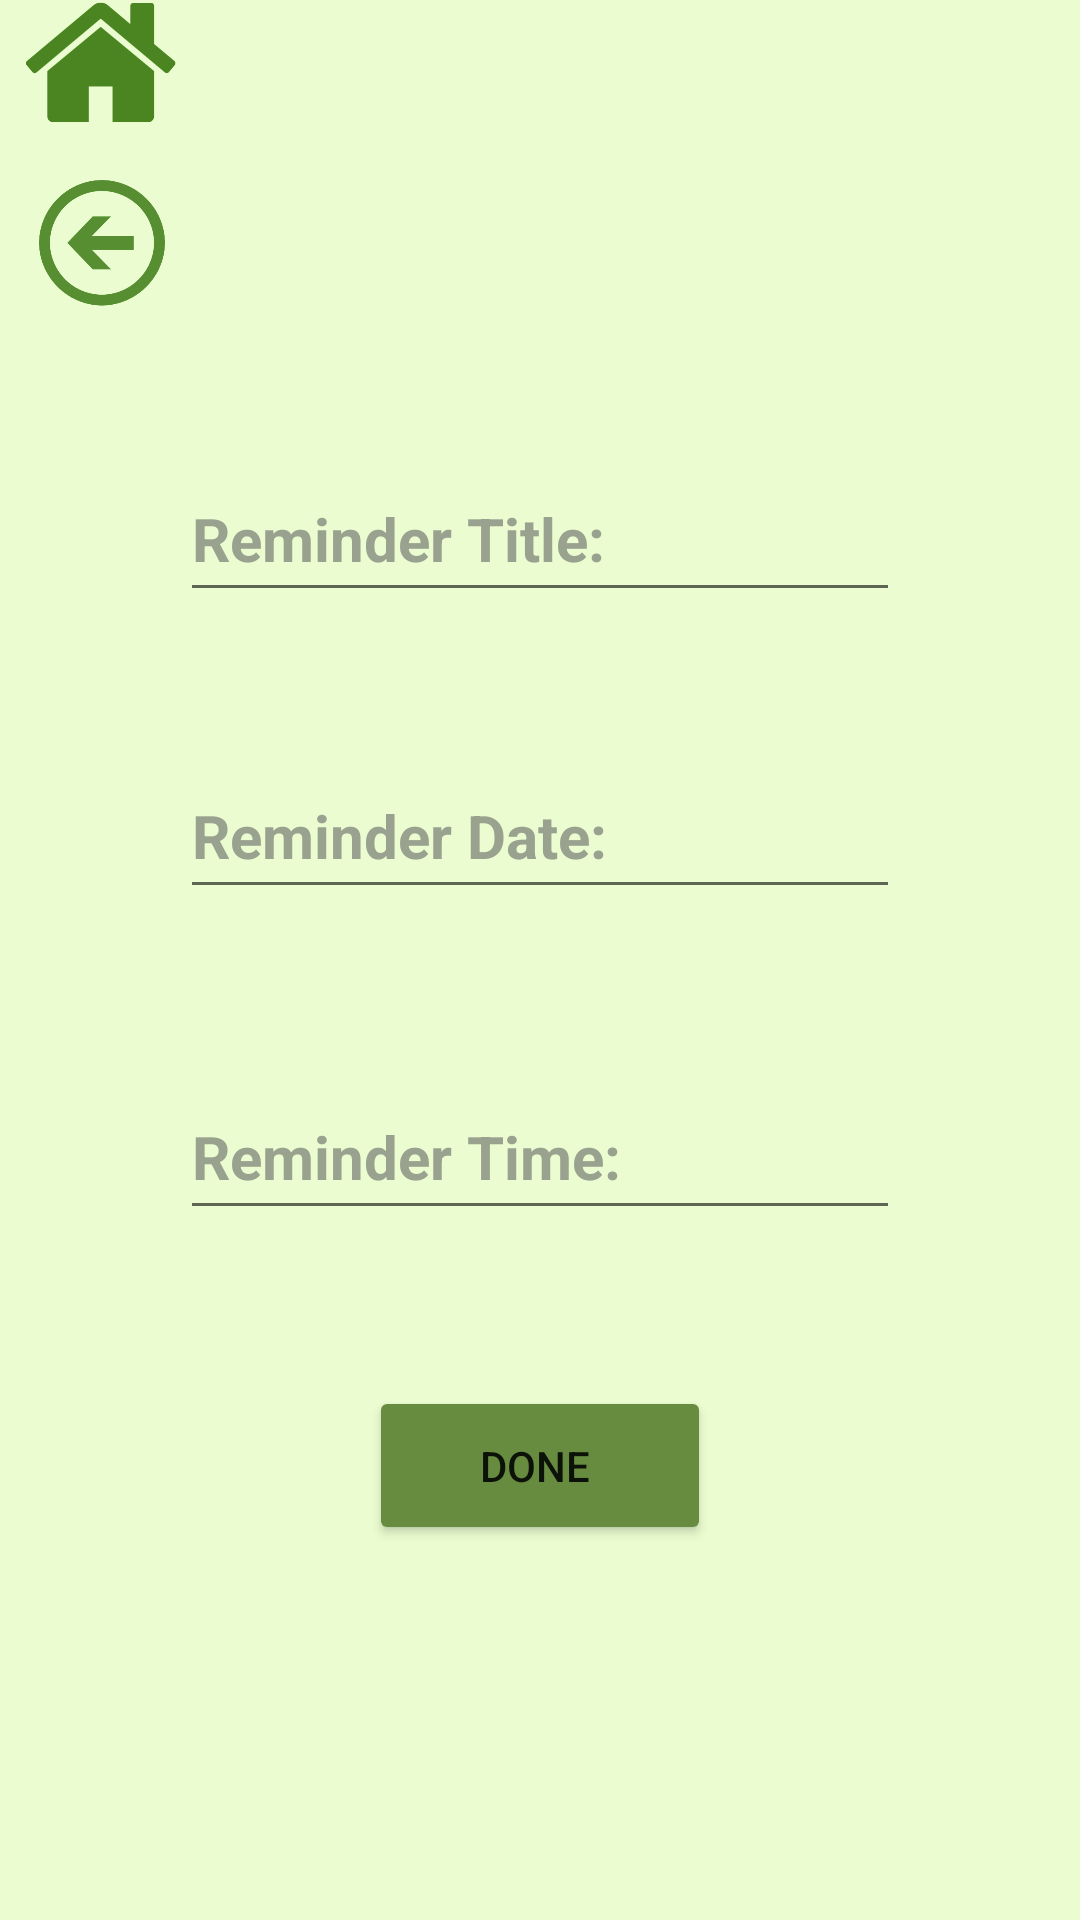

Icons on this 1080 × 1920 Android screen, each with the point to tap as (x,y):
backarrow: (102,243)
homebutton: (101,62)
